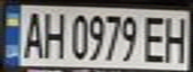0: (66, 10, 90, 61)
7: (103, 11, 124, 62)
9: (118, 11, 142, 63), (87, 11, 106, 61)
A: (18, 8, 45, 60)
E: (139, 12, 172, 64)
H: (160, 12, 193, 64), (39, 8, 69, 60)
